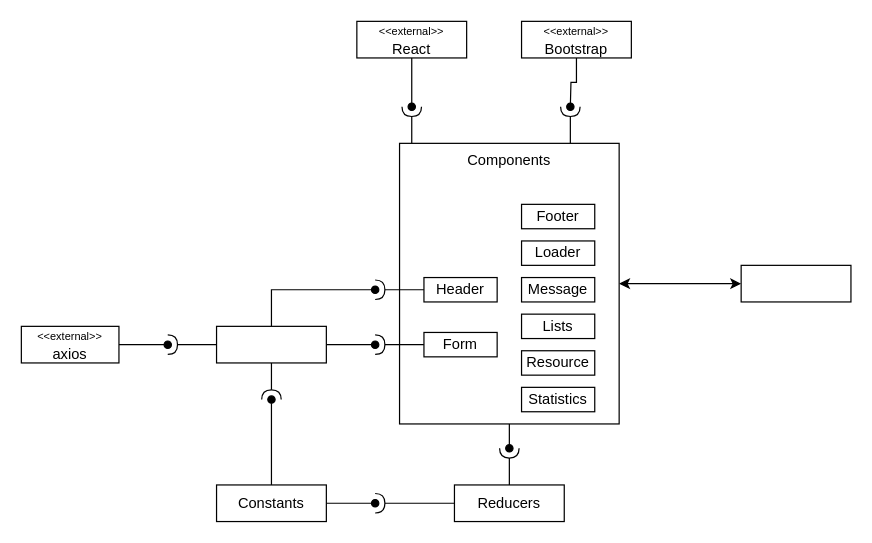
This 872x543 diagram has some shape labels left out. Here are the shapes that lost their labels. From the top down, the centre of each, then its label:
At (795,283): "Views".
At (270,344): "Actions".
